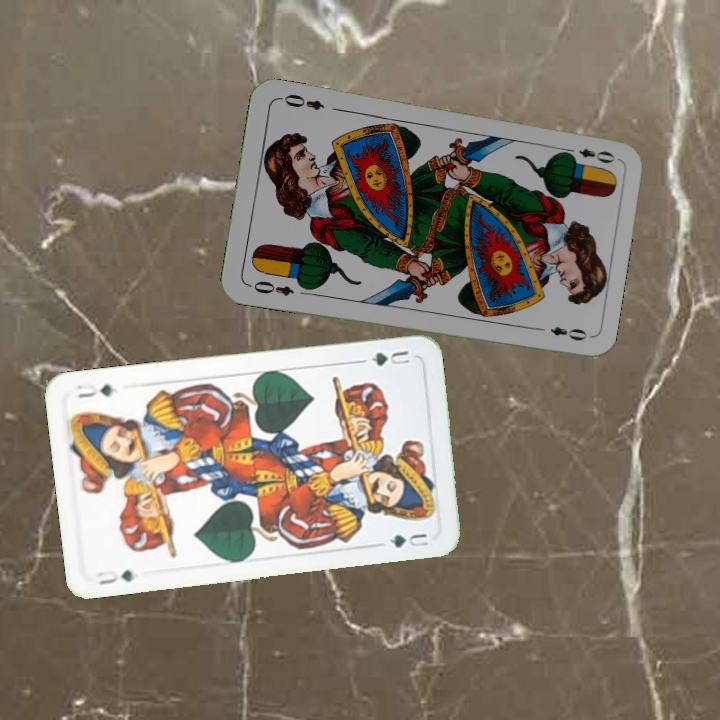EO: (560, 144, 617, 166), (244, 276, 297, 299)
GU: (357, 346, 413, 369), (92, 566, 137, 588)
